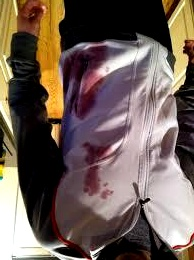wine: (76, 49, 104, 122), (76, 141, 116, 165), (81, 147, 99, 197), (64, 58, 80, 103), (98, 182, 115, 199)
